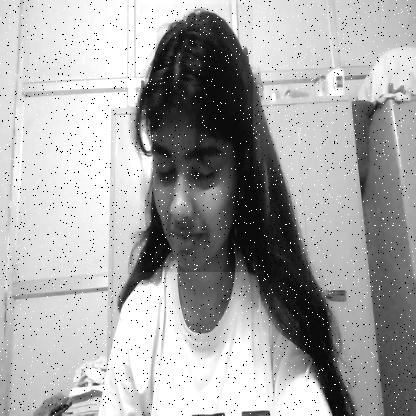Distracted: (140, 4, 253, 272)
